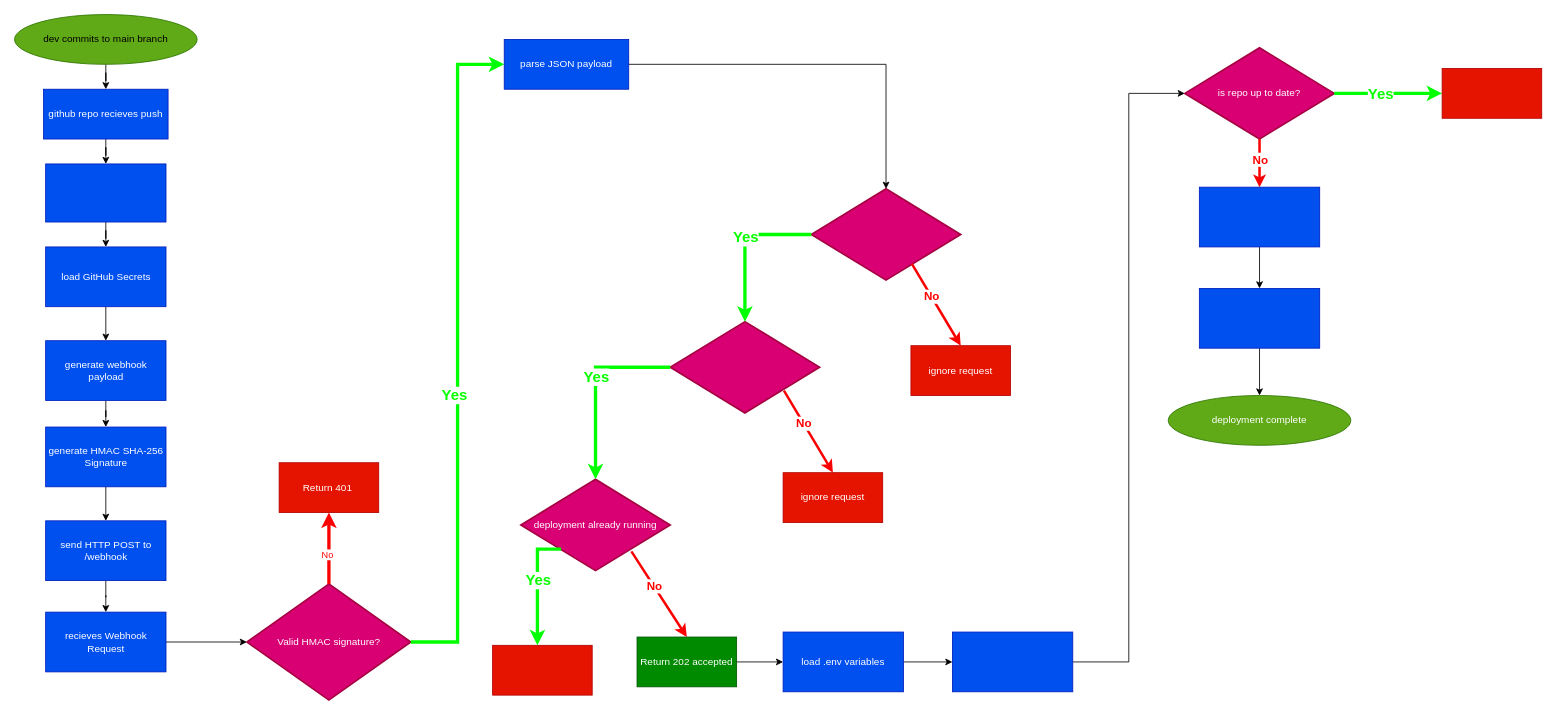
Image size: 1556x715. Some labels were removed from this diagram. Each missing label, with the centre of its shape:
"Exit Deployment" goes at (x=1491, y=93).
"fetch latest repo commit" goes at (x=1012, y=661).
"github detects deploy.yml and starts it" goes at (x=105, y=192).
"install dependencies" goes at (x=1259, y=318).
"Push event?" goes at (x=885, y=234).
"reset repo to origin/main" goes at (x=1259, y=216).
"return 409" goes at (x=542, y=669).
"target branch = main" goes at (x=744, y=366).
